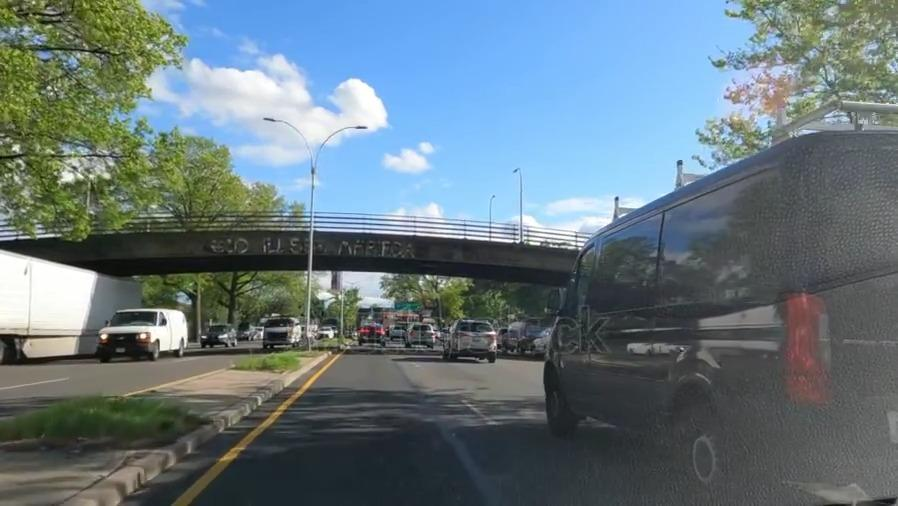car: (442, 319, 496, 362), (398, 322, 435, 347), (201, 322, 235, 346), (356, 320, 386, 346)
van: (537, 194, 898, 429), (97, 306, 188, 361), (258, 318, 299, 347)
wheel: (672, 399, 738, 505), (545, 371, 571, 435)
